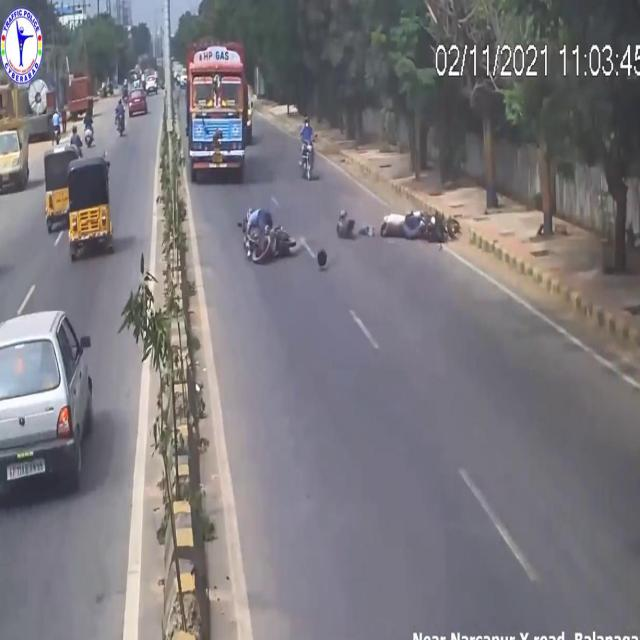accident: (335, 195, 463, 253), (233, 187, 299, 281)
non_accident: (30, 118, 118, 286), (179, 39, 258, 185), (134, 43, 166, 117)
